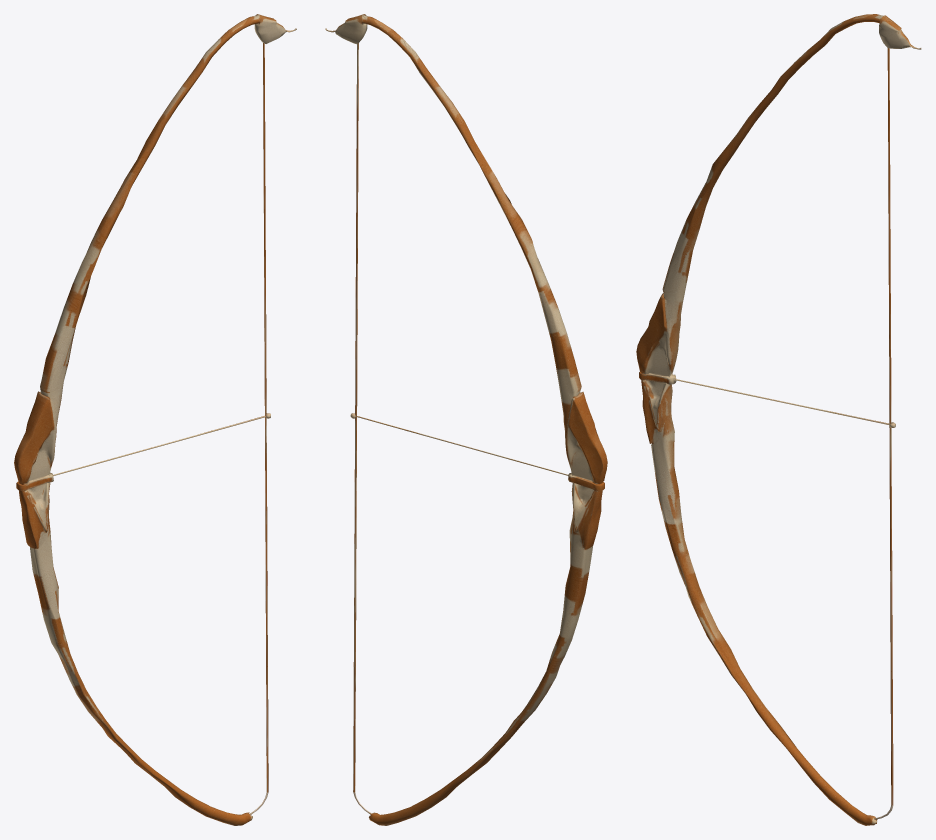
File: serpents-coil-bow-r2_refine.glb
3 views of the same model, side by side, from view 1: azimuth 30°, elevation 25°; view 2: azimuth 150°, elevation 25°; view 3: azimuth 330°, elevation 25° (orthographic).
Size of the model in its own units: 0.3467 by 0.9517 by 0.0254.
Materials: 1 (1 with a texture image).
